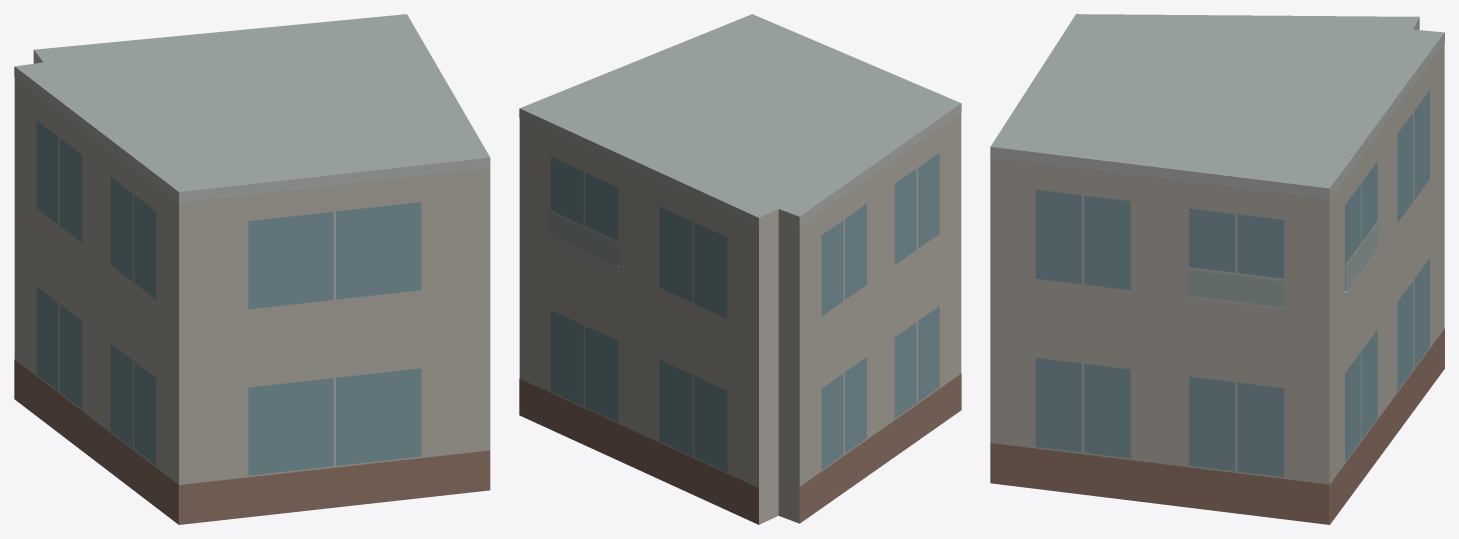
The model's file is survey-upis-32966688.glb.
3 renders of one model, left to right at view 1: azimuth 30°, elevation 25°; view 2: azimuth 150°, elevation 25°; view 3: azimuth 270°, elevation 25°, orthographic. The views are drawn at different scales.
Visible parts, largest first — view 1: survey-upis-32966688.tmp; view 2: survey-upis-32966688.tmp; view 3: survey-upis-32966688.tmp.
Part boxes in pixels (x1,y1,x2,y2): survey-upis-32966688.tmp: (14, 14, 490, 524); survey-upis-32966688.tmp: (519, 14, 961, 524); survey-upis-32966688.tmp: (990, 14, 1444, 524).
Bounding box in the file's own units: 8.46 × 7.6 × 9.31.
